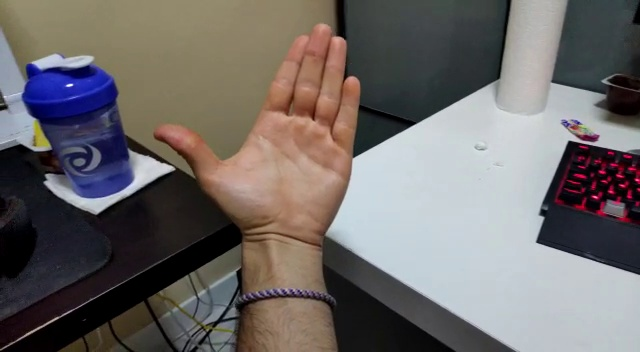Palm: (152, 22, 363, 249)
